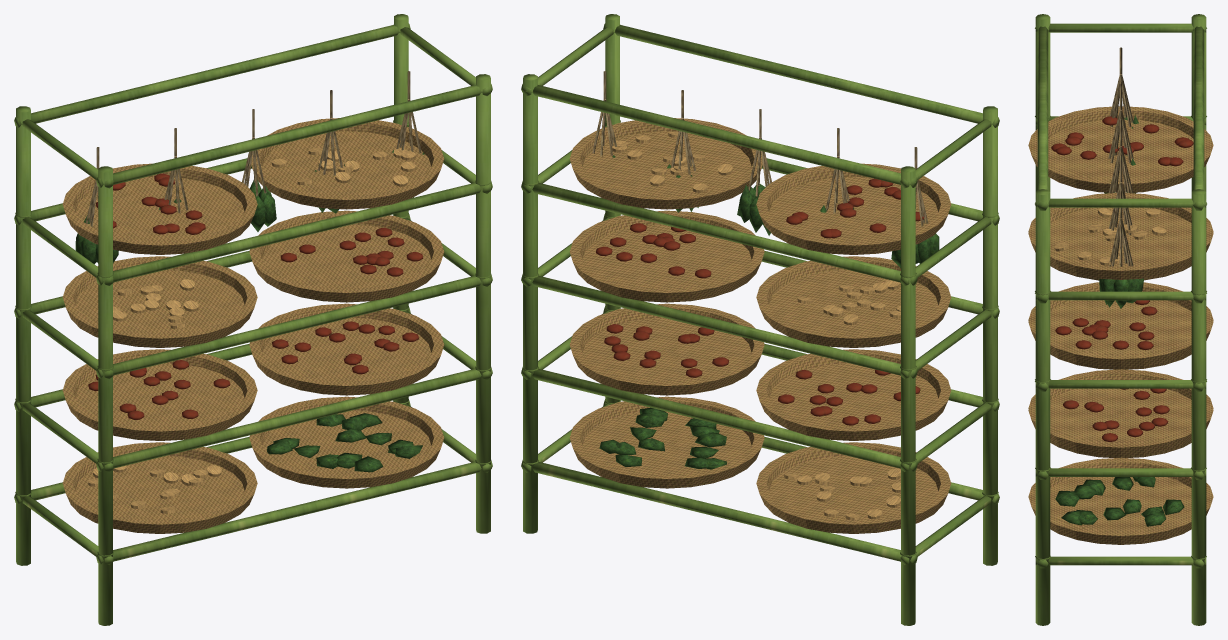
The model's file is herb_drying_rack.glb.
The picture shows the model from 3 angles, left to right: view 1: azimuth 30°, elevation 25°; view 2: azimuth 150°, elevation 25°; view 3: azimuth 270°, elevation 25°; orthographic projection. The views are drawn at different scales.
Parts seen in each view (by area): view 1: Trays, RackBamboo, Mushrooms, DriedLeaves, RootSlices, HerbStems; view 2: Trays, RackBamboo, Mushrooms, DriedLeaves, RootSlices, HerbStems; view 3: Trays, RackBamboo, Mushrooms, DriedLeaves, HerbStems, RootSlices.
Boxes of the visible parts, bbox=[...] form: Trays: bbox=[62, 118, 444, 533]; RackBamboo: bbox=[14, 14, 492, 625]; Mushrooms: bbox=[88, 173, 422, 419]; DriedLeaves: bbox=[75, 150, 424, 472]; RootSlices: bbox=[88, 147, 415, 513]; HerbStems: bbox=[85, 71, 421, 226]; Trays: bbox=[569, 118, 951, 533]; RackBamboo: bbox=[521, 14, 999, 625]; Mushrooms: bbox=[596, 178, 924, 425]; DriedLeaves: bbox=[599, 155, 939, 469]; RootSlices: bbox=[612, 131, 900, 520]; HerbStems: bbox=[592, 71, 928, 226]; Trays: bbox=[1028, 106, 1213, 544]; RackBamboo: bbox=[1035, 14, 1206, 625]; Mushrooms: bbox=[1051, 116, 1193, 441]; DriedLeaves: bbox=[1055, 115, 1184, 526]; HerbStems: bbox=[1108, 47, 1133, 266]; RootSlices: bbox=[1054, 208, 1166, 265].
Size of what is drawn, in the model's own units: 1.77 by 1.95 by 0.76.
Materials: 6 (6 with a texture image).
